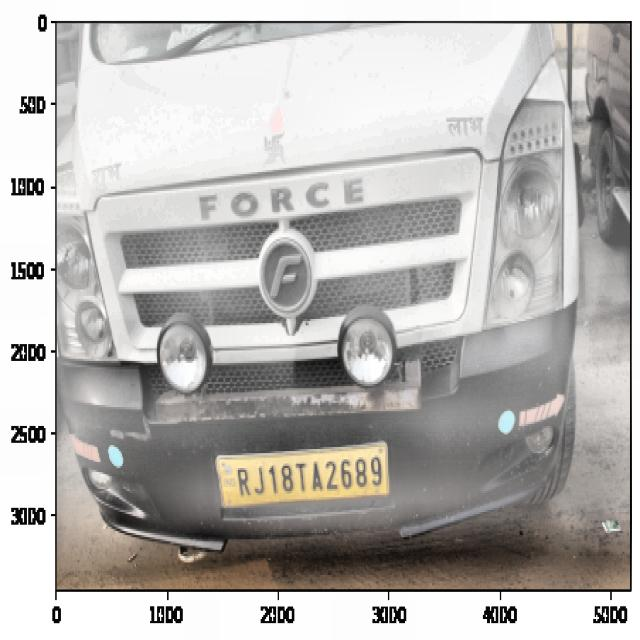license_plate: (231, 452, 388, 504)
